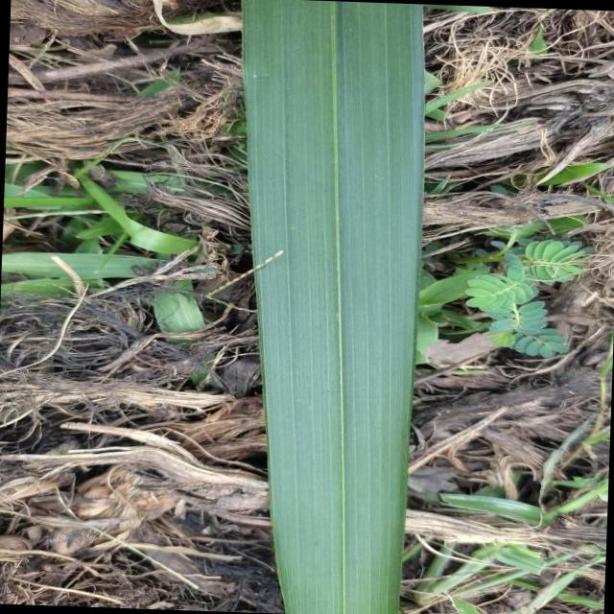Healthy: (241, 5, 427, 614)
